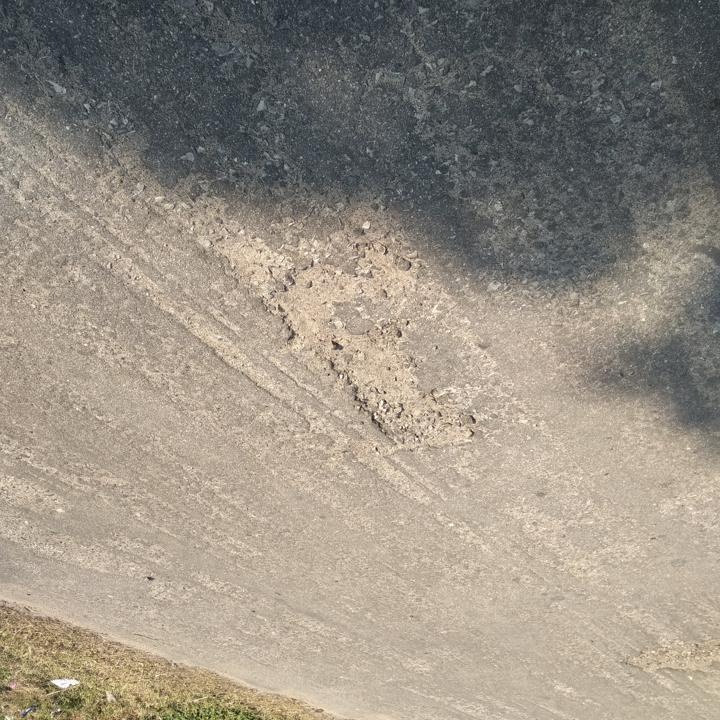pothole: (263, 248, 478, 454)
